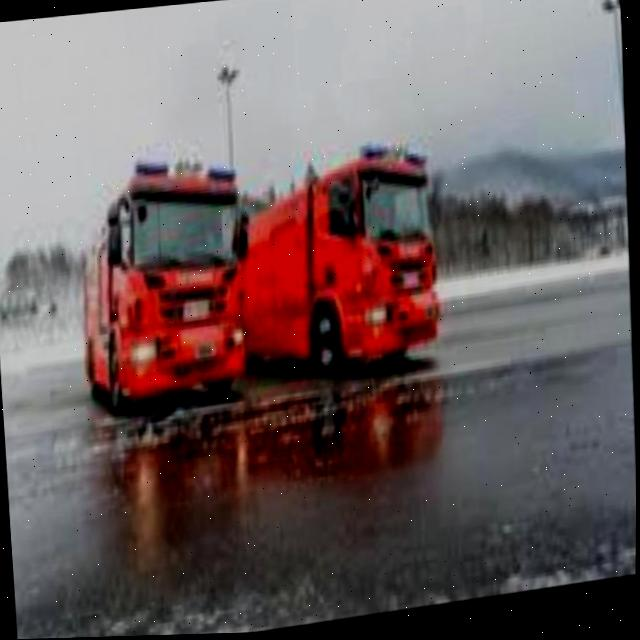emergency: (225, 138, 447, 386), (71, 148, 261, 417)
